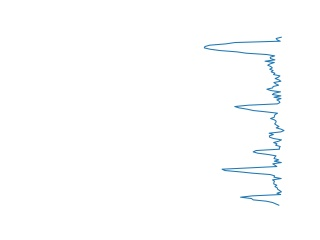distalBar: (199, 34, 289, 86)
interdistributaryEstuary: (230, 84, 289, 145)
underwaterNaturalLevee: (219, 144, 285, 209)
